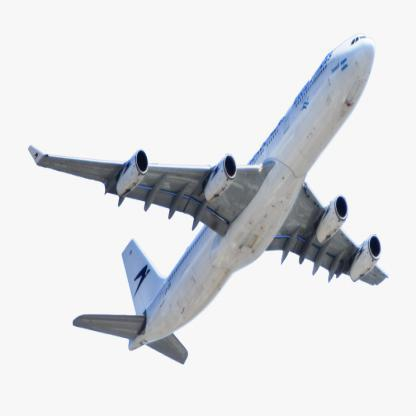CIV_Plane: (26, 30, 392, 368)
